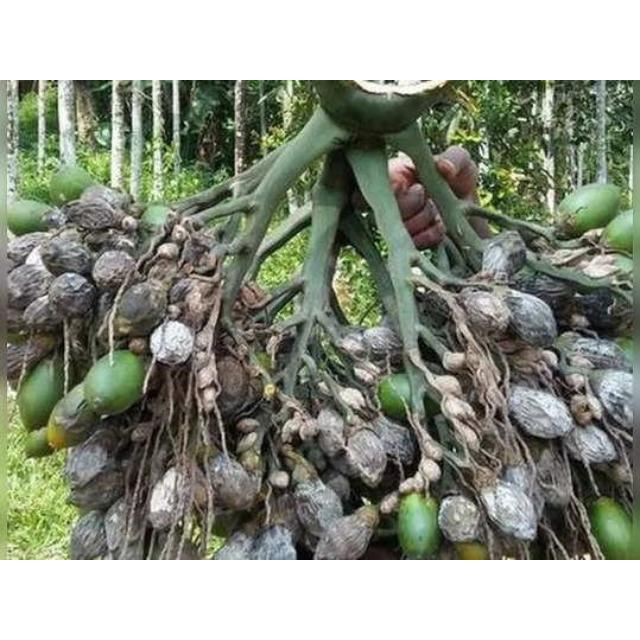damaged: (63, 428, 129, 508), (479, 473, 539, 542), (315, 503, 381, 559), (549, 244, 631, 288), (205, 451, 259, 513), (292, 476, 344, 540), (508, 388, 572, 438), (554, 331, 630, 372), (340, 426, 390, 486), (147, 466, 193, 530), (50, 388, 98, 448), (378, 374, 439, 421), (588, 499, 634, 559), (398, 494, 440, 558), (563, 422, 619, 468), (592, 370, 634, 430), (368, 418, 416, 470), (570, 290, 626, 334), (46, 271, 96, 319), (436, 144, 478, 200), (41, 234, 94, 278), (534, 442, 570, 506), (459, 289, 509, 335), (481, 232, 527, 280), (76, 418, 126, 462), (104, 501, 142, 557), (414, 284, 460, 330), (438, 493, 480, 542), (48, 163, 96, 204), (71, 509, 111, 558), (312, 407, 348, 457), (91, 250, 135, 290), (62, 313, 92, 371), (266, 331, 300, 382), (8, 200, 54, 237), (22, 293, 64, 333), (248, 524, 296, 558), (360, 327, 402, 365), (6, 232, 50, 268), (214, 529, 258, 561), (268, 491, 300, 534), (604, 210, 634, 254), (320, 152, 352, 192), (336, 330, 370, 366), (179, 233, 213, 269), (238, 283, 272, 317), (147, 253, 181, 287), (99, 228, 140, 256), (168, 530, 204, 560), (22, 427, 54, 459), (443, 396, 477, 426), (94, 290, 116, 336), (6, 342, 32, 378), (555, 331, 587, 359), (444, 104, 464, 148), (324, 472, 352, 503), (378, 313, 406, 343), (140, 204, 172, 230), (337, 388, 367, 414), (304, 444, 330, 474), (238, 448, 264, 477), (244, 374, 266, 408), (29, 332, 57, 358), (106, 188, 136, 212), (6, 307, 28, 338), (112, 314, 138, 340), (281, 417, 305, 445), (467, 213, 491, 241), (432, 375, 462, 397), (456, 423, 480, 449), (131, 422, 157, 446), (196, 364, 218, 392), (83, 230, 113, 250), (420, 439, 444, 463), (442, 350, 468, 372), (194, 440, 216, 466), (420, 458, 442, 482), (236, 433, 260, 455), (194, 326, 213, 352), (352, 187, 371, 213), (358, 504, 380, 526), (399, 476, 423, 496), (156, 242, 180, 262), (380, 491, 400, 515), (268, 470, 290, 490), (565, 373, 587, 391), (236, 419, 260, 435), (202, 384, 218, 408), (128, 337, 148, 355), (582, 228, 602, 246), (540, 349, 558, 368), (171, 224, 189, 243), (570, 314, 590, 330), (121, 215, 139, 232), (166, 304, 182, 318)
